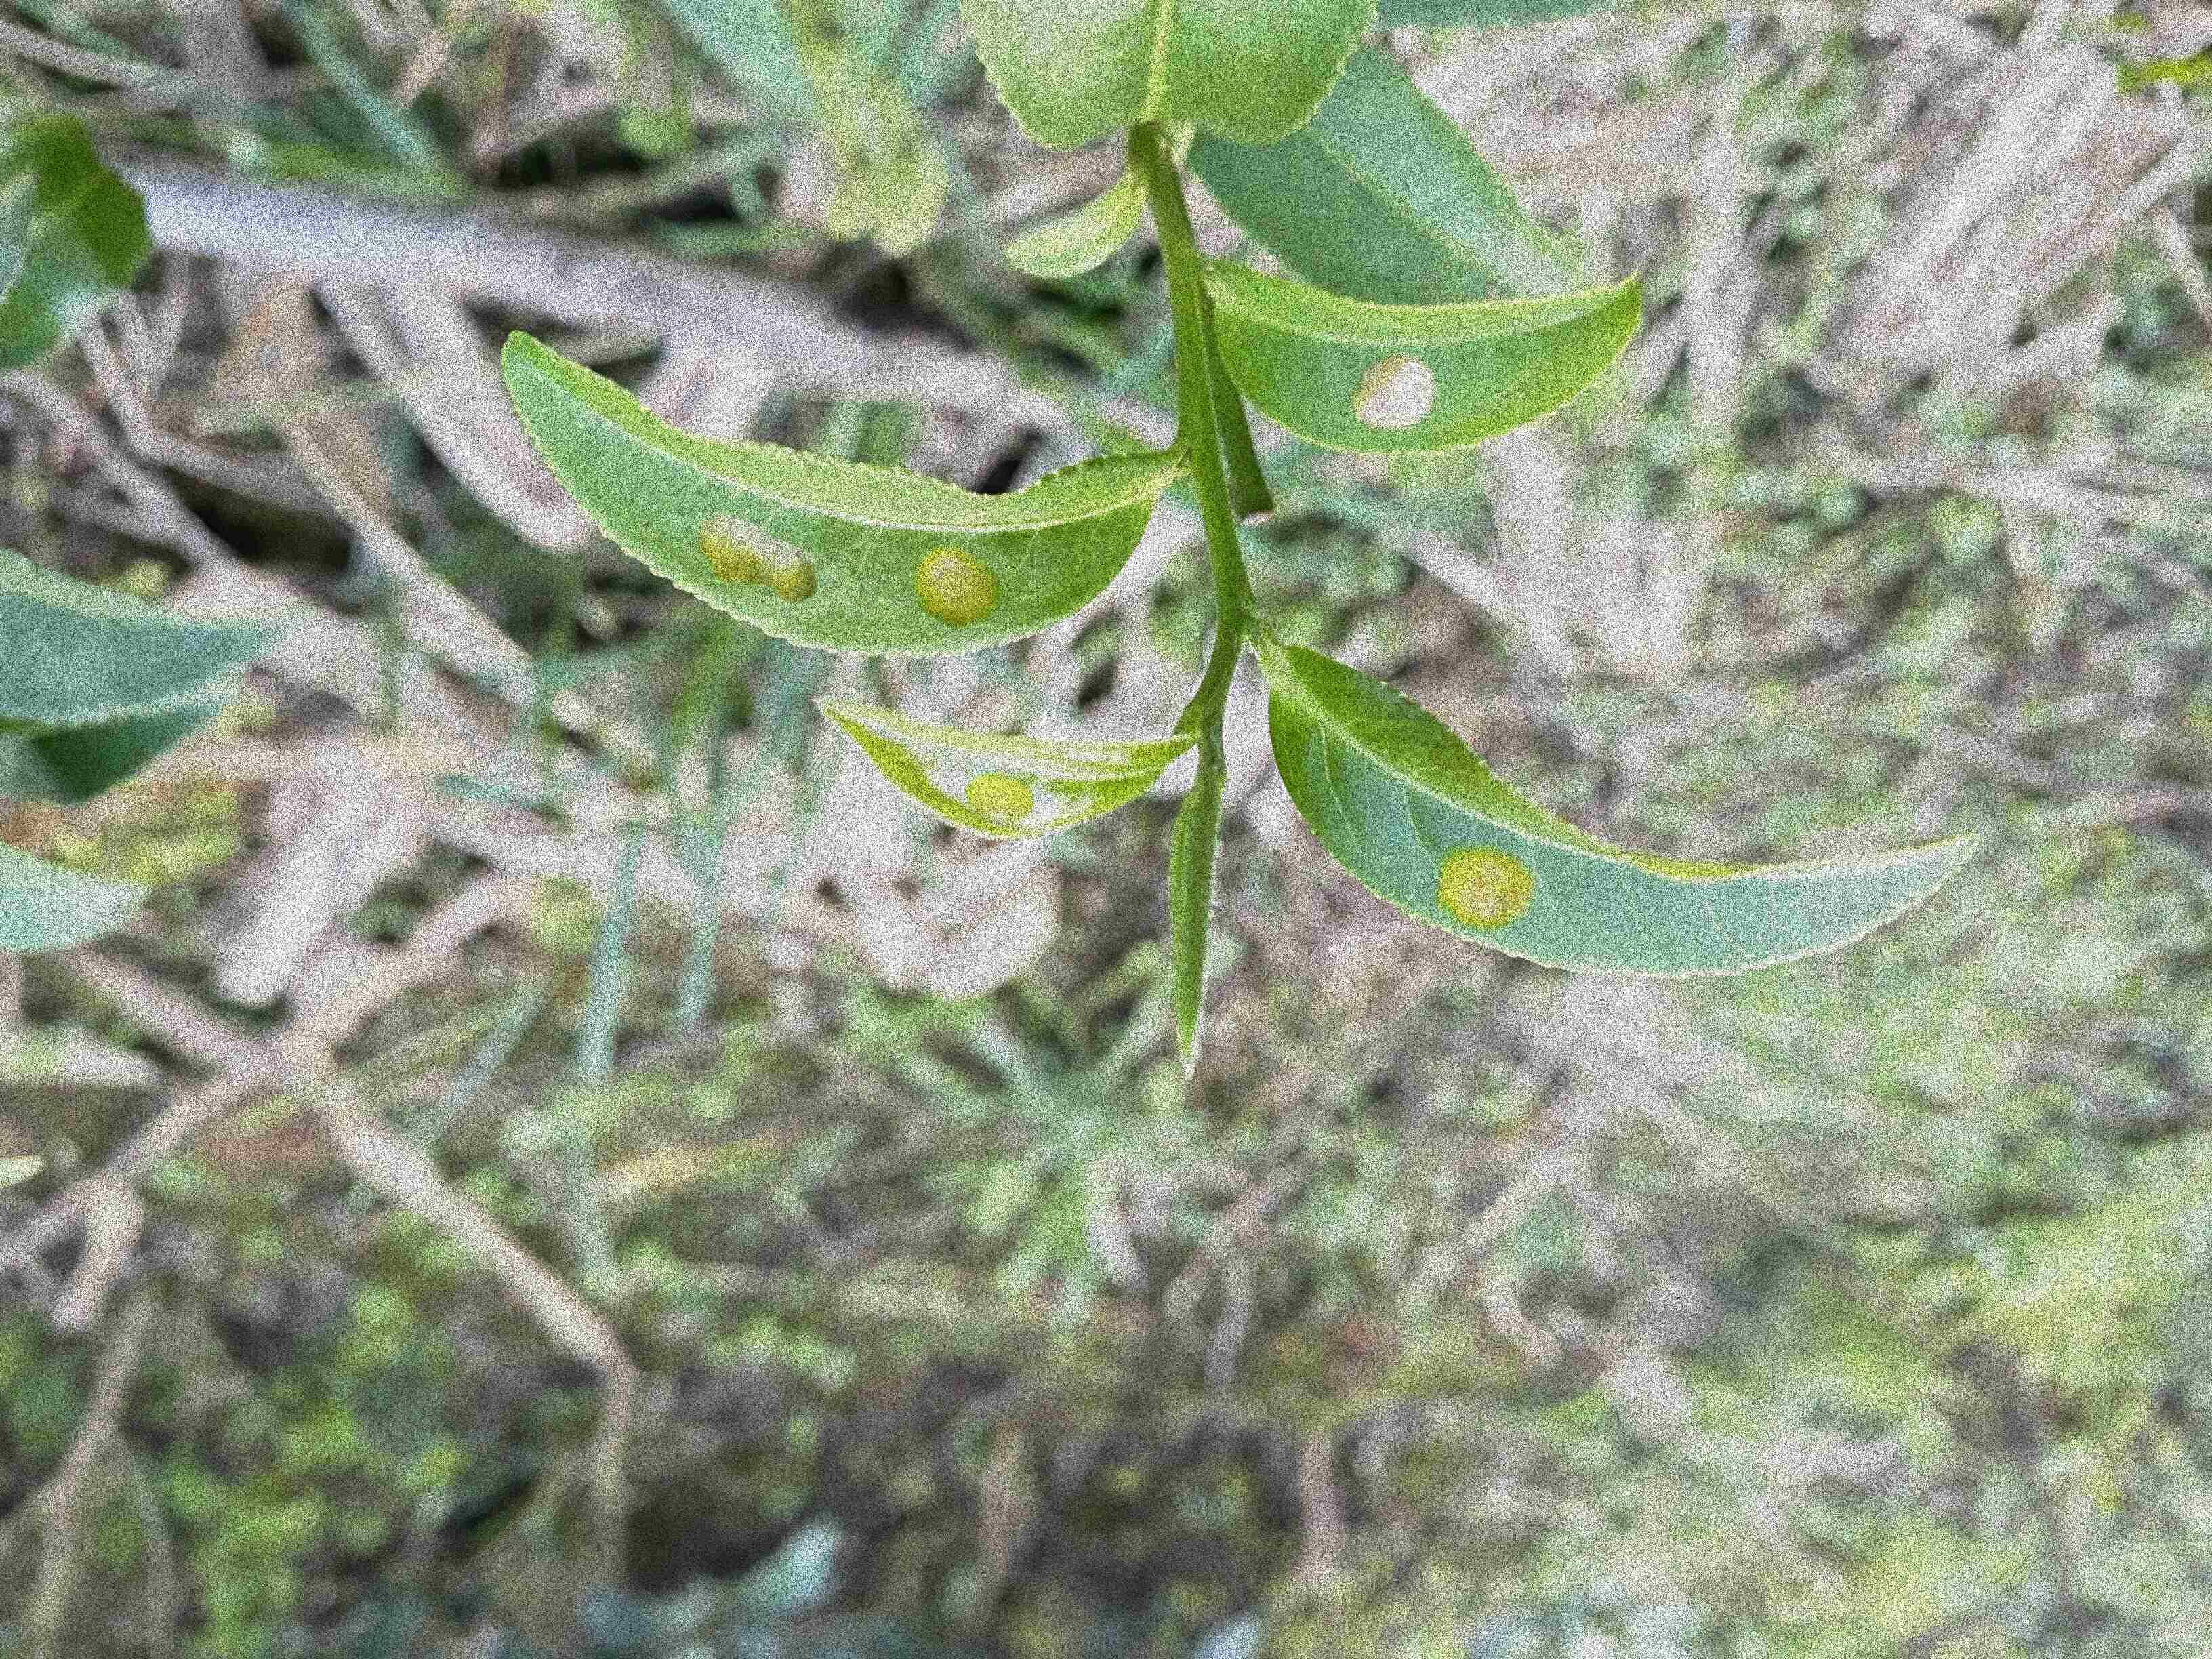chabing_high: (498, 329, 1176, 662)
chabing_low: (1268, 647, 1982, 979), (1207, 270, 1646, 458), (810, 694, 1200, 843)
